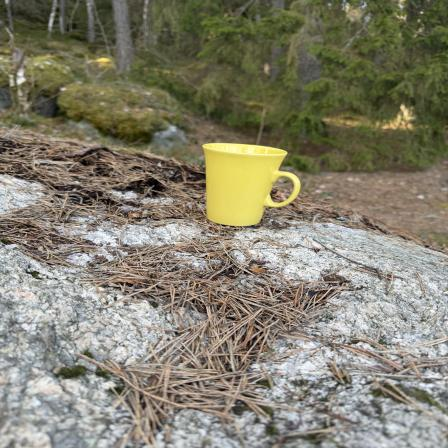yellow_cup: (204, 144, 303, 229)
